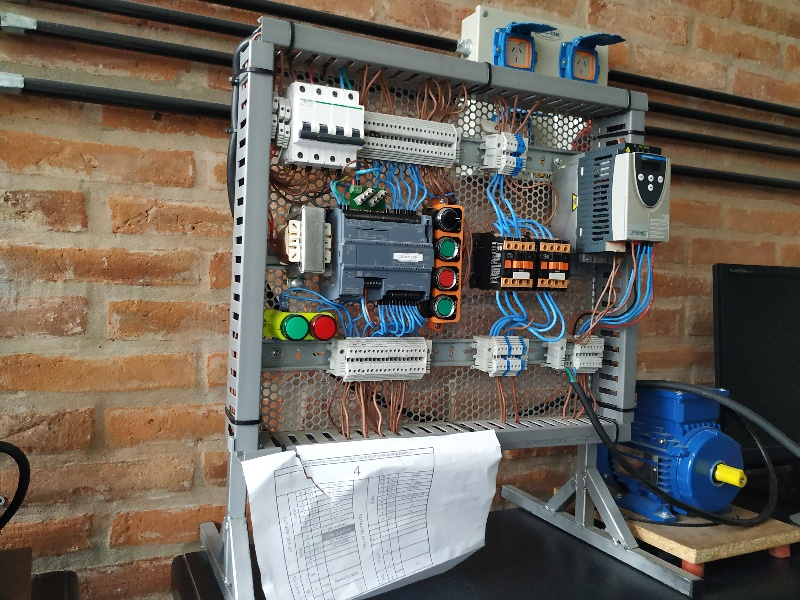Tablero 4: (263, 32, 674, 444)
